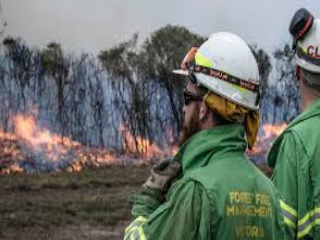fire: (4, 113, 113, 174), (122, 127, 168, 162), (261, 118, 285, 136)
